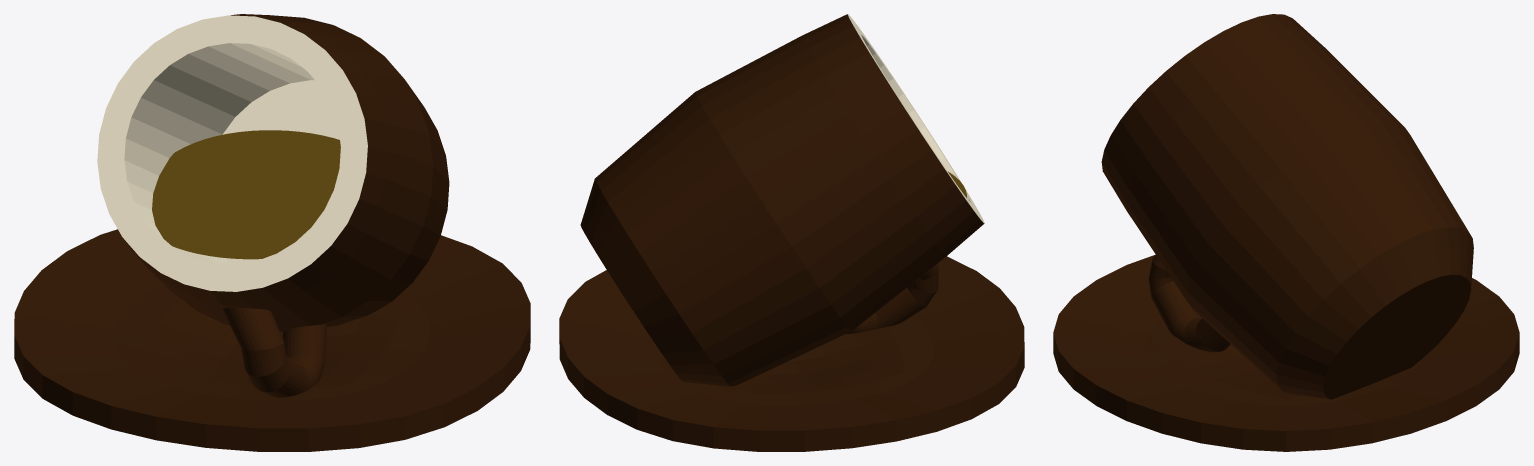
The model's file is HotChocolateBallista.glb.
3 views of the same model, side by side, from view 1: azimuth 30°, elevation 25°; view 2: azimuth 150°, elevation 25°; view 3: azimuth 270°, elevation 25° (orthographic). The views are drawn at different scales.
Parts seen in each view (by area): view 1: HOT_CHOCOLATE_BALLISTA; view 2: HOT_CHOCOLATE_BALLISTA; view 3: HOT_CHOCOLATE_BALLISTA.
Part boxes in pixels (x1=…): HOT_CHOCOLATE_BALLISTA: x1=14, y1=14, x2=530, y2=451; HOT_CHOCOLATE_BALLISTA: x1=559, y1=14, x2=1024, y2=451; HOT_CHOCOLATE_BALLISTA: x1=1053, y1=14, x2=1519, y2=451.
Size of the model in its own units: 1.03 by 0.825 by 1.03.
